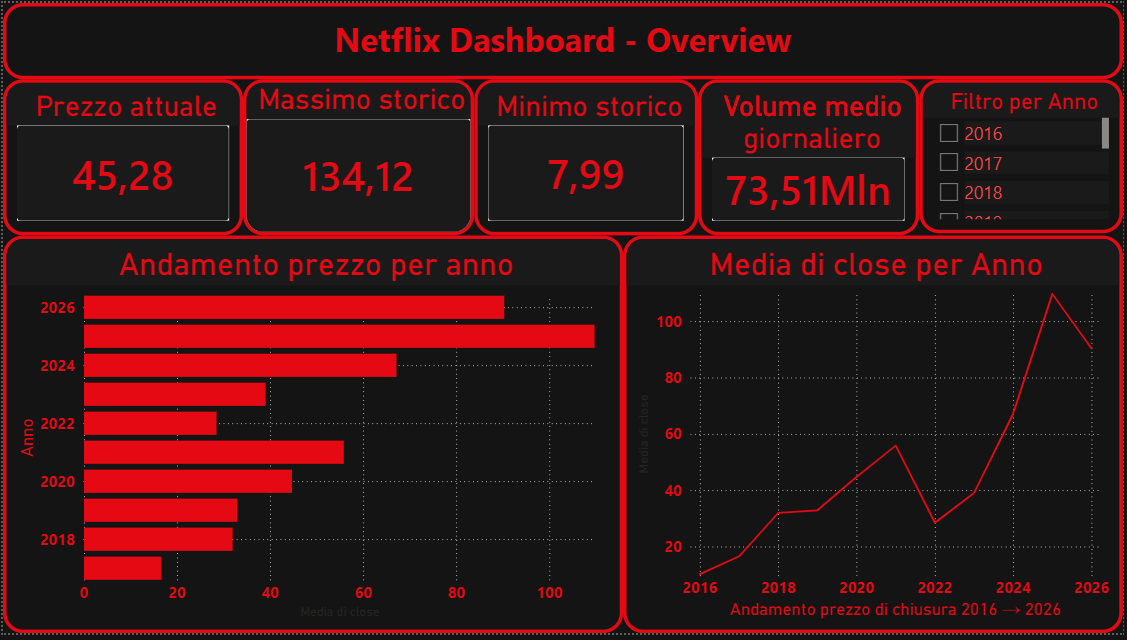

The dashboard page shown, as its layout file describes it:
{"tool":"powerbi","page":{"name":"Overview","canvas":[1280,720],"ordinal":0},"visuals":[{"type":"cardVisual","title":"Prezzo attuale","fields":{"Data":["Avg(NFLX.close)"]},"box":[0,87.1,274.3,178.6],"z":0},{"type":"cardVisual","title":"Minimo storico","fields":{"Data":["Min(NFLX.low)"]},"box":[538.6,87.1,255.7,178.6],"z":1000},{"type":"cardVisual","title":"Massimo storico","fields":{"Data":["Max(NFLX.high)"]},"box":[274.3,87.1,264.3,178.6],"z":2000},{"type":"cardVisual","title":"Volume medio giornaliero","fields":{"Data":["Avg(NFLX.volume)"]},"box":[794.3,87.1,252.9,178],"z":3000},{"type":"slicer","title":"Filtro per Anno","fields":{"Values":["NFLX.Anno"]},"box":[1047.1,87.1,232.9,178.6],"z":4000},{"type":"lineChart","fields":{"Category":["NFLX.Date.Variazione.Gerarchia data.Anno","NFLX.Date.Variazione.Gerarchia data.Trimestre","NFLX.Date.Variazione.Gerarchia data.Mese","NFLX.Date.Variazione.Gerarchia data.Giorno"],"Y":["Avg(NFLX.close)"]},"box":[708.6,265.7,571.4,454.3],"z":5000},{"type":"clusteredBarChart","title":"Andamento prezzo per anno","fields":{"Category":["NFLX.Anno"],"Y":["Avg(NFLX.close)"]},"box":[0,265.7,708.6,454.3],"z":5001},{"type":"textbox","box":[0,0,1280,87.1],"z":5002}]}

Visuals, with their boxes in screenshot pixels (x1, y1, x2, y2), scaled from the page's 1280x720 canvas onto the 1127x640 screenshot:
"Prezzo attuale" cardVisual: l=0, t=77, r=242, b=236
"Minimo storico" cardVisual: l=474, t=77, r=699, b=236
"Massimo storico" cardVisual: l=242, t=77, r=474, b=236
"Volume medio giornaliero" cardVisual: l=699, t=77, r=922, b=236
"Filtro per Anno" slicer: l=922, t=77, r=1126, b=236
lineChart - NFLX.Date.Variazione.Gerarchia data.Anno x NFLX.Date.Variazione.Gerarchia data.Trimestre: l=624, t=236, r=1126, b=639
"Andamento prezzo per anno" clusteredBarChart: l=0, t=236, r=624, b=639
textbox: l=0, t=0, r=1126, b=77
